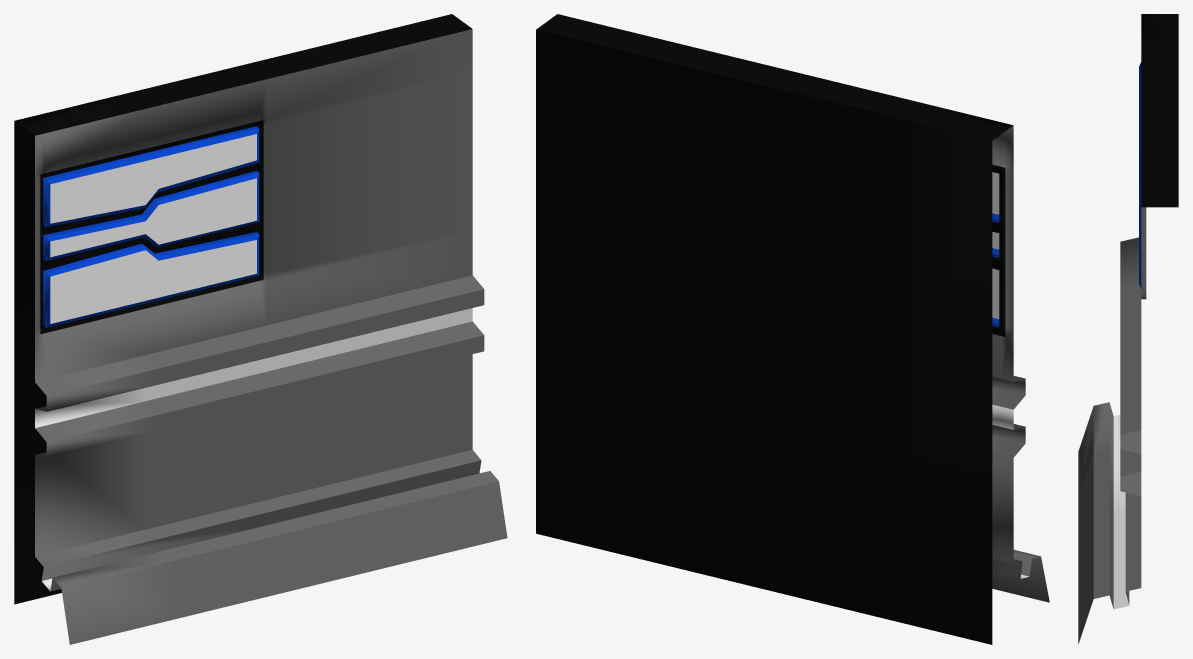
The model's file is Wall_Extrude_1_V2_Base_Color.blend.fbx.
3 renders of one model, left to right at view 1: azimuth 30°, elevation 25°; view 2: azimuth 150°, elevation 25°; view 3: azimuth 270°, elevation 25°, orthographic. The views are drawn at different scales.
Parts seen in each view (by area): view 1: Wall; view 2: Wall; view 3: Wall.
Boxes of the visible parts, x1,y1,x2,y2 form: Wall: (14,14,507,644); Wall: (536,14,1049,644); Wall: (1078,14,1178,644).
Size of the model in its own units: 246 by 260 by 53.91.
